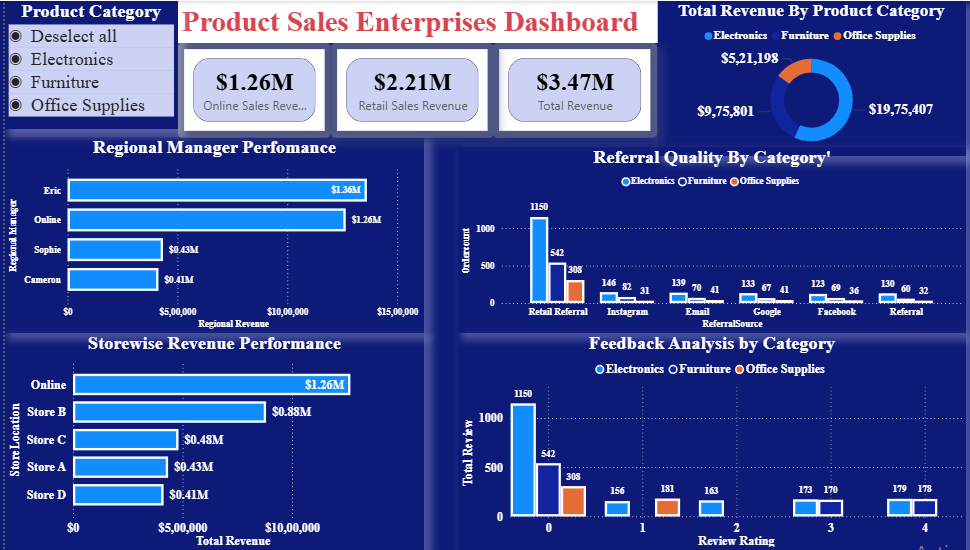

The page's visual inventory and layout, read from the dashboard file:
{"tool":"powerbi","page":{"name":"DD- Dashboard","canvas":[1280,720],"ordinal":0},"visuals":[{"type":"cardVisual","fields":{"Data":["Sum(Fact_Sales.TotalPrice)"]},"box":[639.4,54.7,214.6,123.8],"z":0},{"type":"cardVisual","fields":{"Data":["Fact_Sales.Online Sales Revenue"]},"box":[226.1,54.7,200.2,123.8],"z":1000},{"type":"cardVisual","fields":{"Data":["Dim_Customer.Retail Sales Revenue"]},"box":[426.2,54.7,213.1,123.8],"z":2000},{"type":"donutChart","title":"Total Revenue By Product Category","fields":{"Y":["Sum(Fact_Sales.TotalPrice)"],"Series":["Dim_Product Details.ProductCategory"]},"box":[853.9,0,404.6,203],"z":3000},{"type":"clusteredBarChart","title":"Storewise Revenue Performance","fields":{"Y":["Sum(Fact_Sales.TotalPrice)"],"Category":["Dim_Location.StoreLocation"]},"box":[0,434.9,548.6,285.1],"z":4000},{"type":"clusteredBarChart","title":"Regional Manager Perfomance","fields":{"Category":["Dim_Location.Regional Manager"],"Y":["Measure Table.Regional Revenue"]},"box":[0,178.6,548.6,256.3],"z":5000},{"type":"clusteredColumnChart","title":"Referral Quality By Category'' ","fields":{"Y":["Measure Table.Ordercount"],"Category":["Dim_sales_Order_Details.ReferralSource"],"Series":["Dim_Product Details.ProductCategory"]},"box":[593.3,191.5,665.3,243.4],"z":6000},{"type":"clusteredColumnChart","title":"Feedback Analysis by Category","fields":{"Y":["Measure Table.Total Review"],"Category":["Fact_Sales.Review Rating"],"Series":["Dim_Product Details.ProductCategory"]},"box":[593.3,434.9,665.3,285.1],"z":7000},{"type":"textbox","box":[226.1,0,627.8,54.7],"z":8000},{"type":"listSlicer","fields":{"Values":["Inventory_Tracking.Product Category"]},"box":[0,0,226.1,168.5],"z":9000}]}

Visuals, with their boxes in screenshot pixels (x1, y1, x2, y2), scaled from the page's 1280x720 canvas onto the 970x550 screenshot:
cardVisual - Sum(Fact_Sales.TotalPrice): [left=485, top=42, right=647, bottom=136]
cardVisual - Fact_Sales.Online Sales Revenue: [left=171, top=42, right=323, bottom=136]
cardVisual - Dim_Customer.Retail Sales Revenue: [left=323, top=42, right=484, bottom=136]
"Total Revenue By Product Category" donutChart: [left=647, top=0, right=954, bottom=155]
"Storewise Revenue Performance" clusteredBarChart: [left=0, top=332, right=416, bottom=549]
"Regional Manager Perfomance" clusteredBarChart: [left=0, top=136, right=416, bottom=332]
"Referral Quality By Category'' " clusteredColumnChart: [left=450, top=146, right=954, bottom=332]
"Feedback Analysis by Category" clusteredColumnChart: [left=450, top=332, right=954, bottom=549]
textbox: [left=171, top=0, right=647, bottom=42]
listSlicer - Inventory_Tracking.Product Category: [left=0, top=0, right=171, bottom=129]
